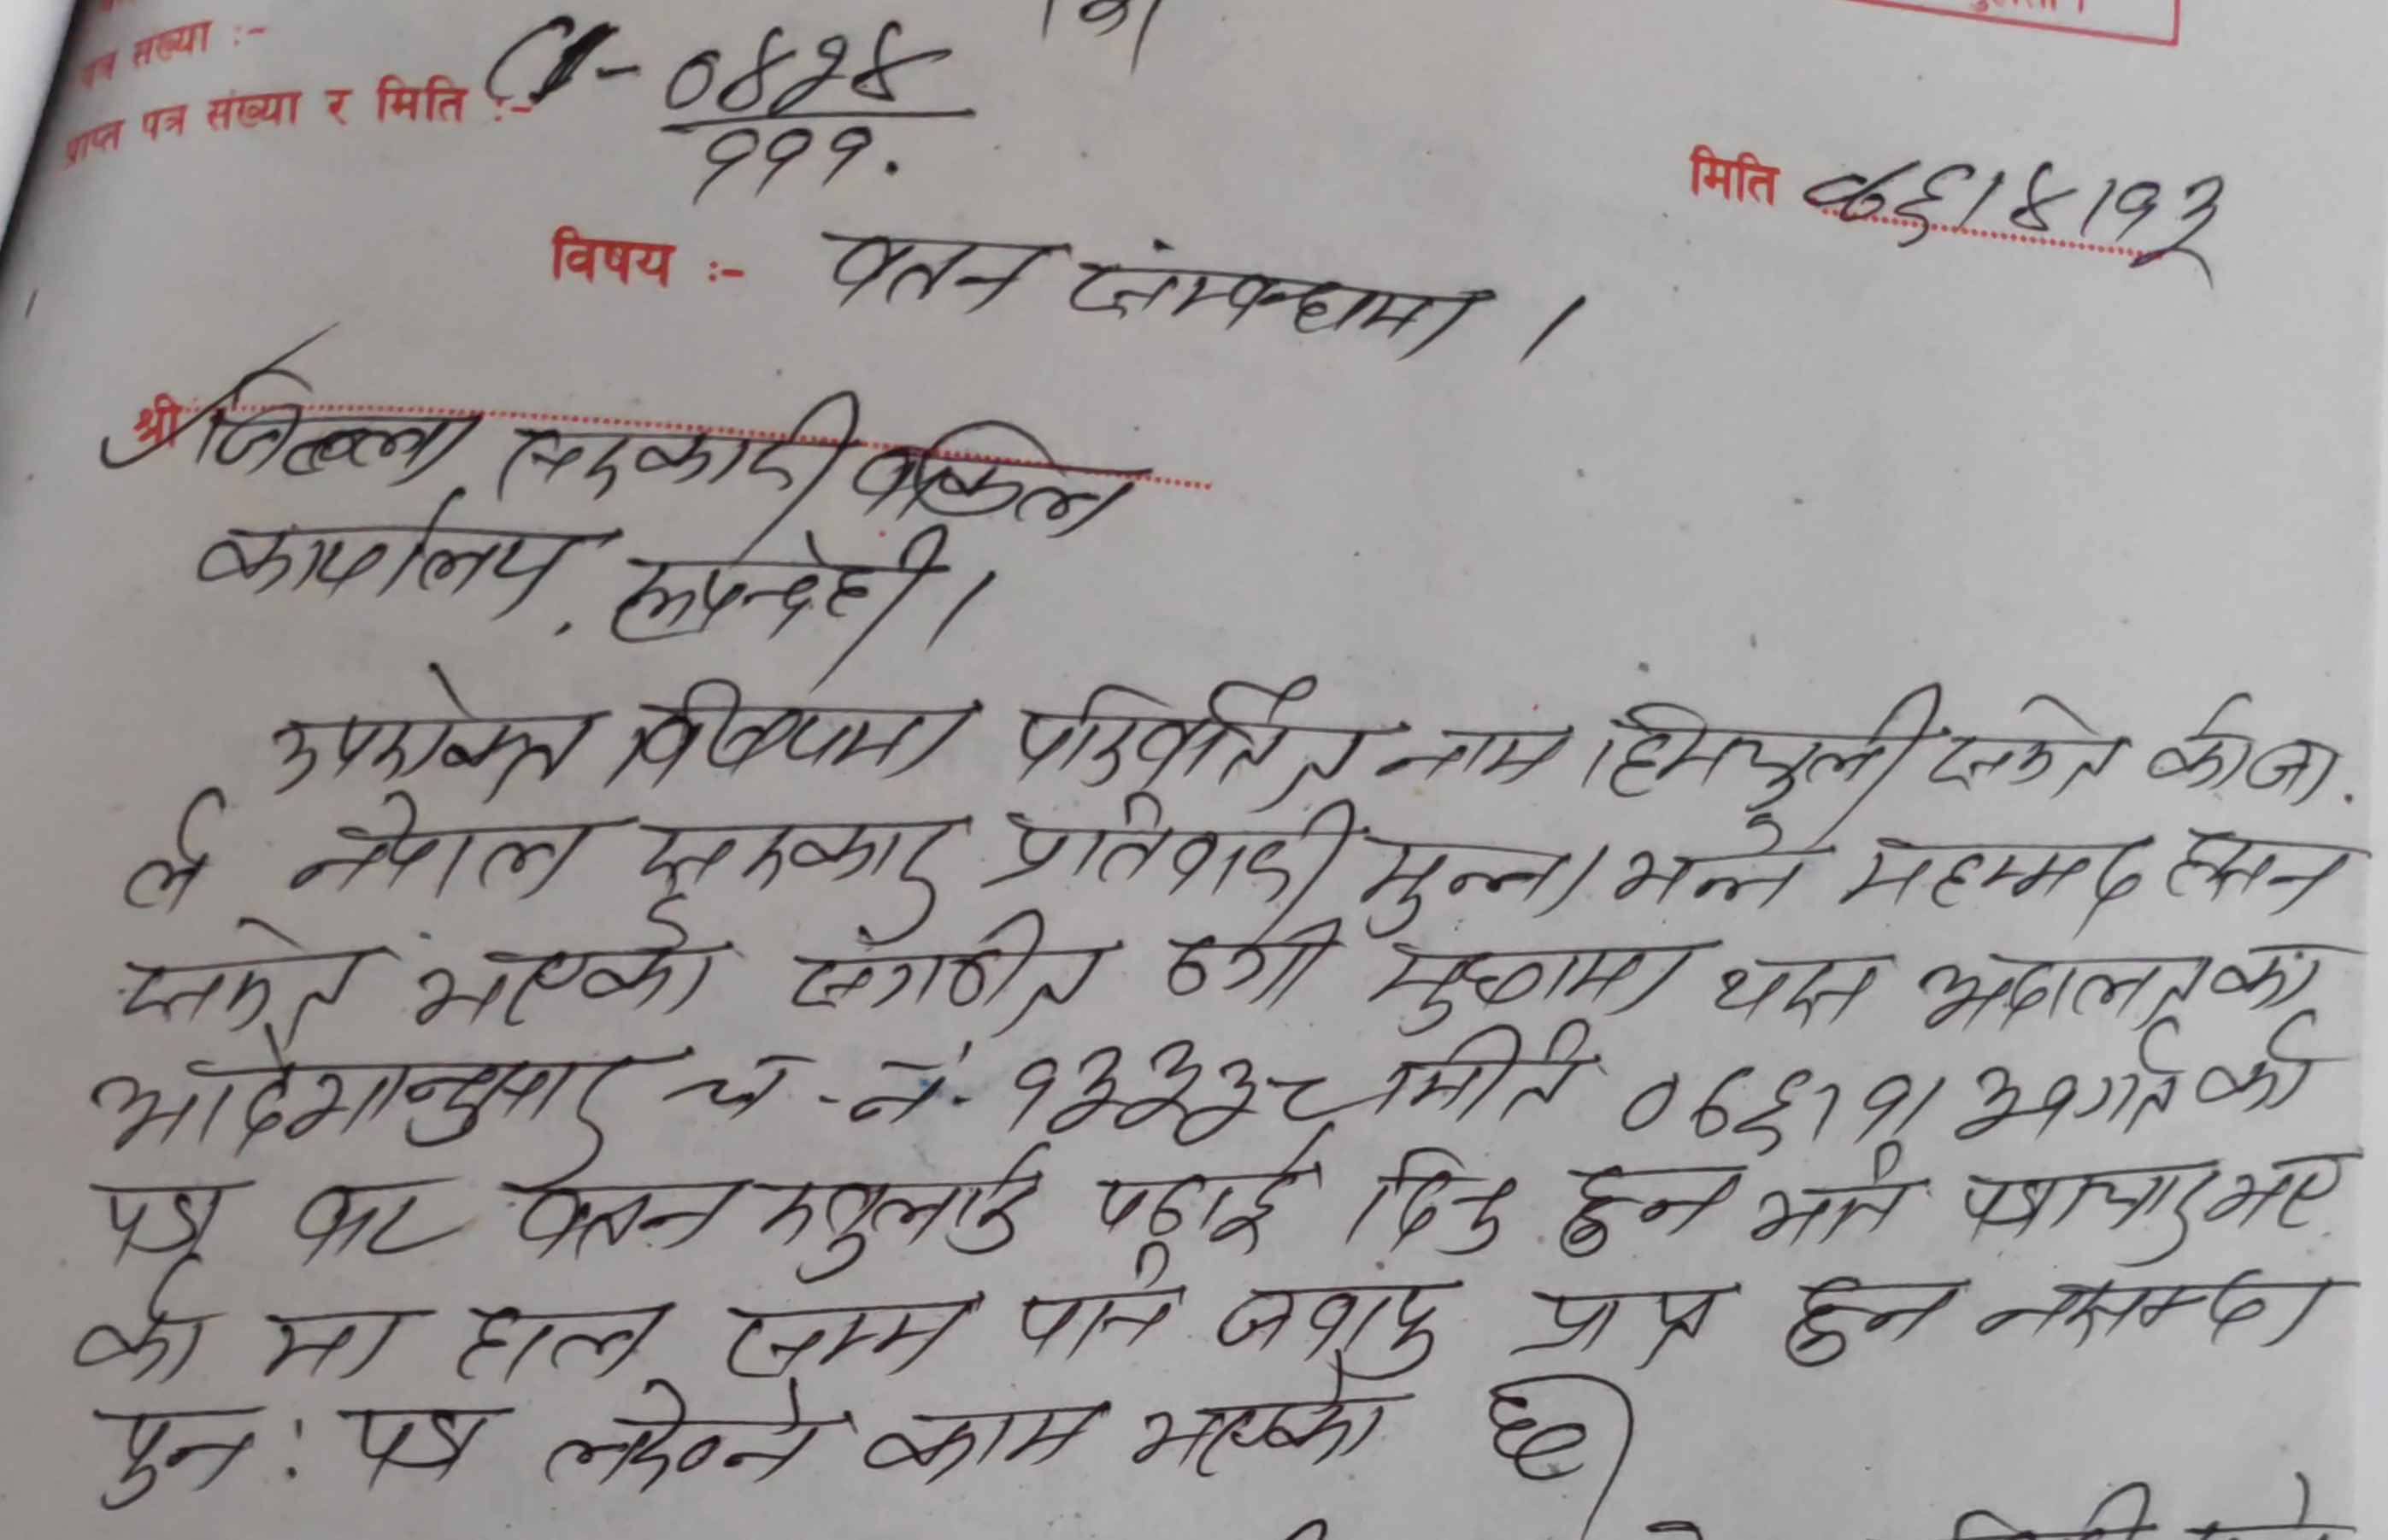text: (82, 1028, 641, 1161), (1800, 132, 2226, 287), (1060, 228, 1493, 369), (188, 480, 576, 633), (606, 505, 945, 675), (487, 374, 853, 517), (1608, 1044, 2073, 1150), (745, 1126, 1051, 1286), (1600, 666, 1948, 806), (254, 651, 588, 795), (783, 905, 1112, 1044), (1909, 926, 2353, 1028), (987, 1025, 1363, 1143), (1006, 672, 1366, 793), (409, 901, 724, 1037), (1001, 787, 1358, 905), (627, 670, 987, 787), (851, 412, 1150, 545), (524, 1376, 839, 1500), (1358, 919, 1695, 1032), (1974, 1267, 2353, 1364), (282, 793, 606, 905), (1835, 814, 2153, 926), (623, 799, 968, 900), (198, 360, 477, 484), (1130, 1359, 1396, 1486), (1358, 807, 1596, 943), (1949, 1143, 2212, 1265), (679, 1028, 976, 1135), (108, 914, 364, 1035), (1083, 1122, 1319, 1248), (2144, 680, 2365, 814), (656, 14, 936, 118), (806, 221, 1065, 331), (1213, 1270, 1460, 1380), (712, 1276, 964, 1382), (855, 1396, 1110, 1493), (1608, 807, 1817, 926), (503, 1164, 735, 1270), (1337, 1131, 1514, 1262), (1370, 1023, 1596, 1122), (453, 1286, 682, 1382), (1546, 1155, 1749, 1262), (82, 1392, 265, 1509), (1150, 900, 1338, 1011), (1706, 922, 1882, 1041), (2162, 814, 2362, 917), (1514, 1270, 1741, 1361), (78, 1157, 245, 1279), (1772, 1270, 1963, 1376), (61, 1270, 219, 1397), (1018, 1244, 1187, 1361), (1372, 701, 1573, 799), (1744, 1157, 1937, 1255), (329, 1399, 512, 1500), (238, 1300, 419, 1394), (275, 1173, 446, 1265), (2191, 1016, 2339, 1121), (679, 122, 874, 200), (1472, 1373, 1608, 1483), (117, 783, 223, 917), (2082, 1016, 2191, 1138), (2214, 1138, 2350, 1235)
